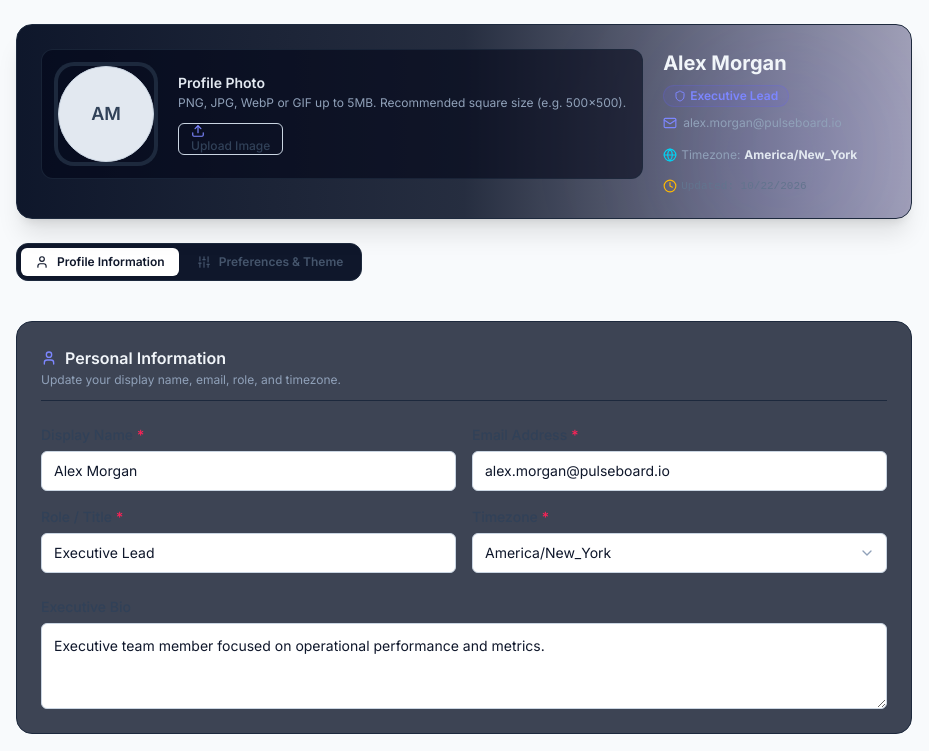
Test case: ProfilePage Integration Tests › displays form validation error when email format is invalid
This screenshot has width=929, height=751.
In the field labelled "Email Address *": (680, 471) left=472, top=451, right=887, bottom=491, type "invalid-email"
(page scrolled)
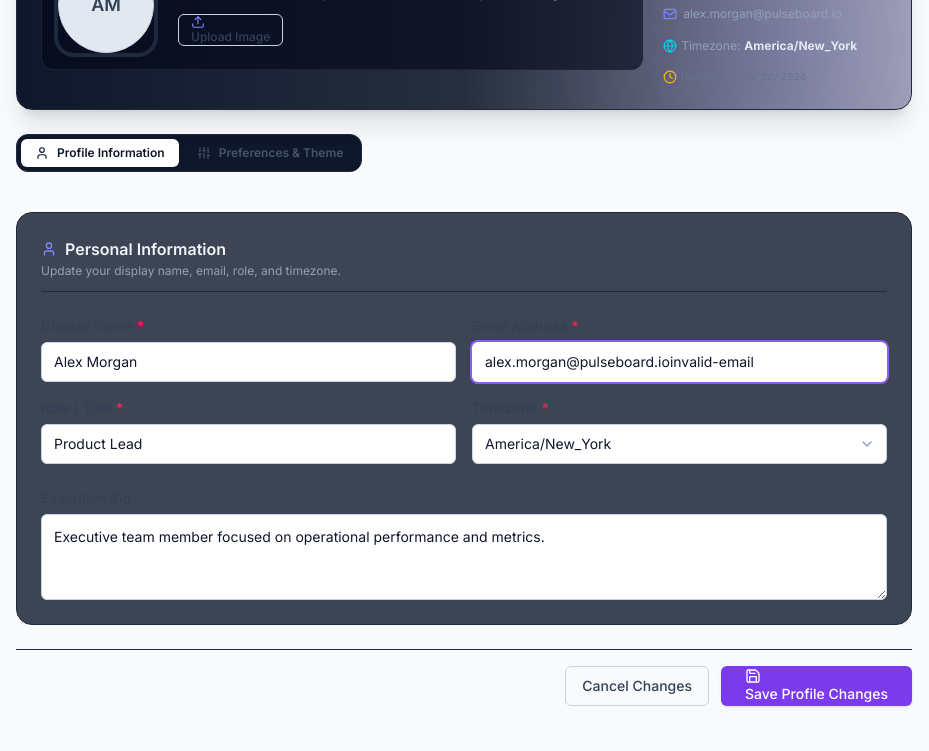
Click the button "Save Profile Changes": click(816, 686) left=721, top=666, right=912, bottom=706
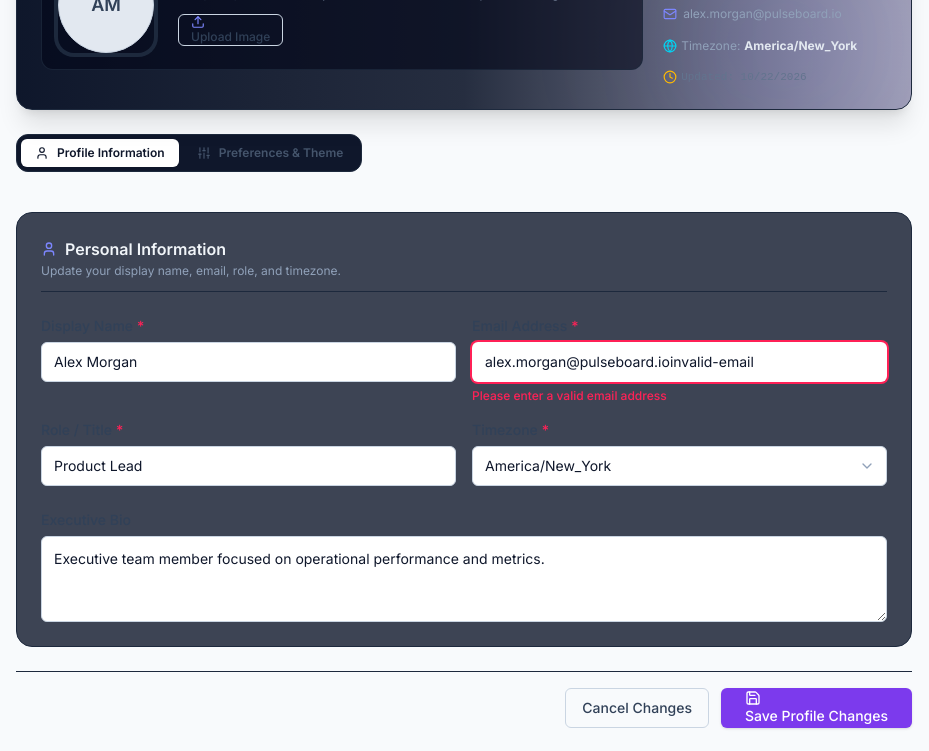
expect the text "Please enter a valid email address" is shown: met, box left=472, top=388, right=667, bottom=403
